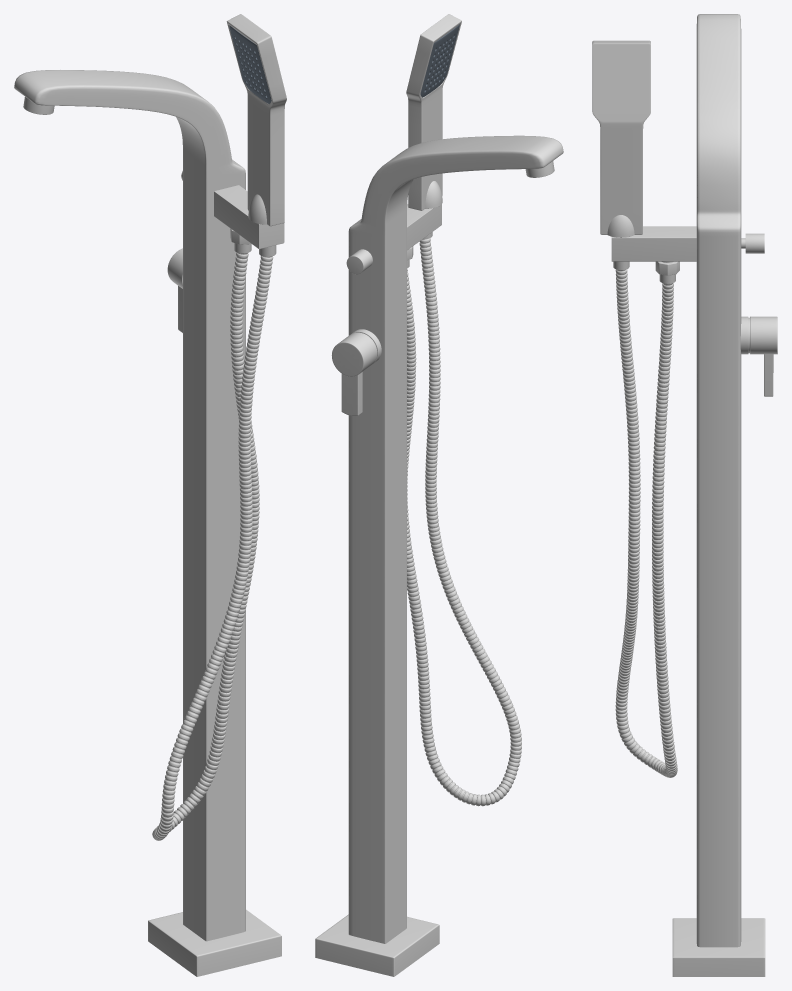
The model's file is scene_mobile.glb.
The picture shows the model from 3 angles, left to right: view 1: azimuth 30°, elevation 25°; view 2: azimuth 150°, elevation 25°; view 3: azimuth 270°, elevation 25°; orthographic projection. The views are drawn at different scales.
Bounding box in the file's own units: 0.7082 × 2.8 × 0.5167.
